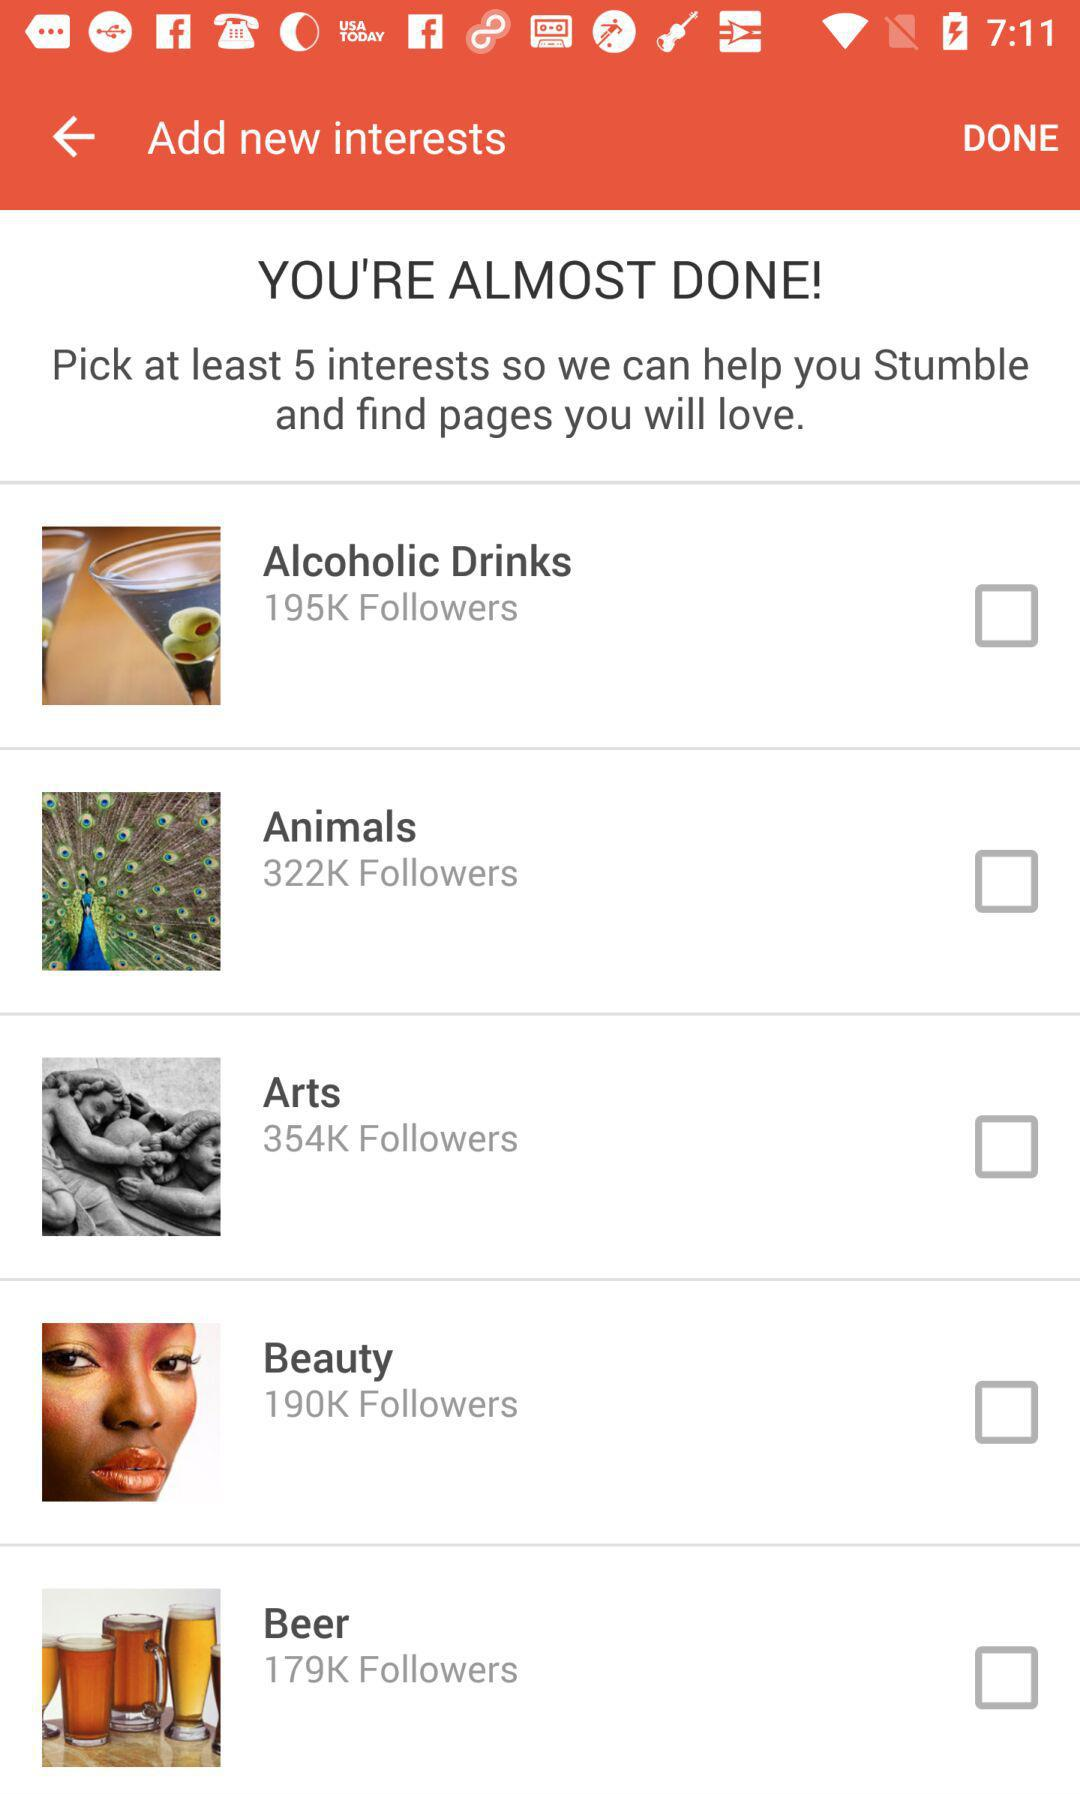CheckedTextView: (264, 1115, 1039, 1180), (266, 583, 1039, 648), (266, 1380, 1039, 1445), (264, 850, 1039, 914), (266, 1645, 1039, 1709)
Icon: (53, 115, 97, 160)
Image: (42, 1322, 222, 1502), (44, 525, 222, 706), (44, 792, 222, 971), (44, 1057, 222, 1237), (44, 1588, 222, 1767)
Text: (55, 347, 1029, 440), (258, 258, 821, 301), (149, 120, 507, 158), (263, 543, 571, 578), (264, 856, 518, 888), (264, 1123, 518, 1153), (266, 591, 518, 621), (266, 1388, 518, 1419), (266, 1653, 518, 1684), (263, 809, 416, 844), (265, 1342, 395, 1383), (963, 124, 1060, 154), (265, 1608, 350, 1640), (263, 1076, 341, 1108)
UpperTaskBar: (1, 1, 1080, 64)
